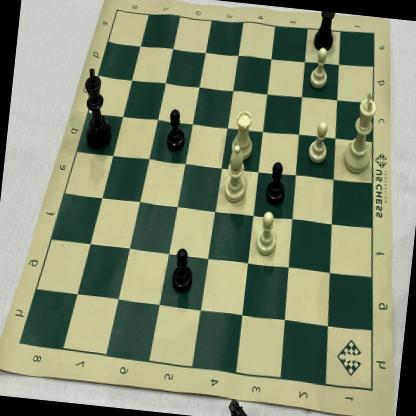black-king: (76, 64, 121, 152)
black-pawn: (168, 244, 196, 296), (262, 158, 290, 207), (164, 104, 188, 153)
black-rook: (310, 11, 340, 53)
white-bishop: (219, 142, 252, 206)
white-king: (338, 86, 382, 178)
white-pawn: (252, 208, 282, 258), (304, 116, 332, 167), (306, 44, 332, 93)
white-rook: (228, 107, 255, 162)
